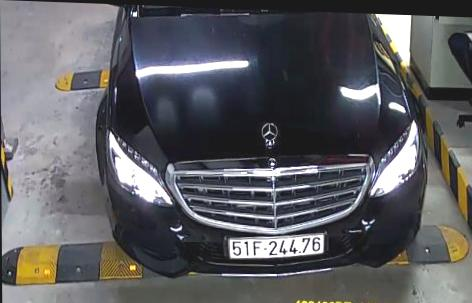License_Plate: (223, 230, 329, 262)
